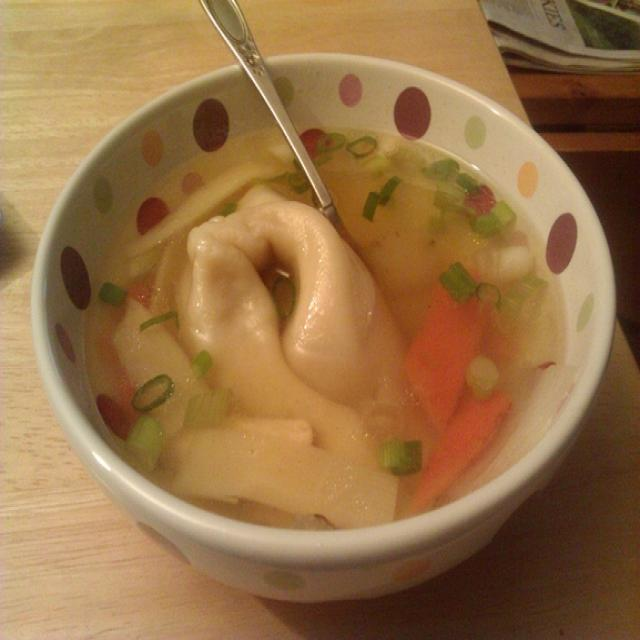汤锅炖物: (46, 44, 584, 594)
